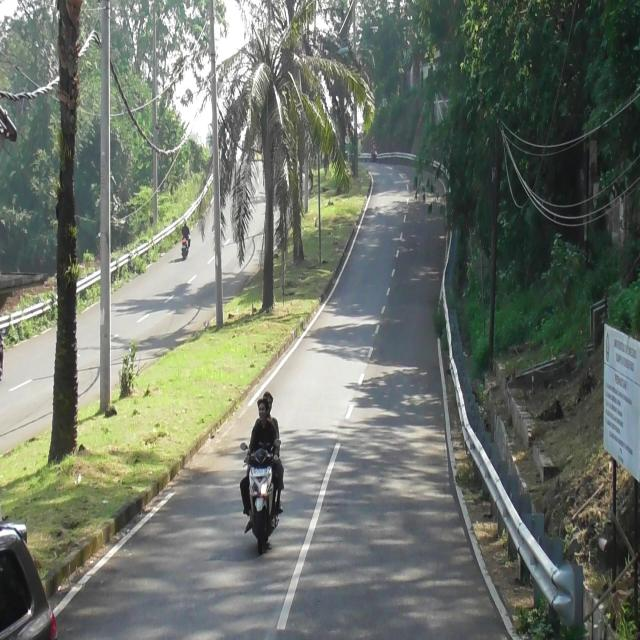motorcycle: (240, 440, 282, 557), (181, 233, 190, 261)
person: (242, 395, 280, 462), (261, 392, 278, 442), (182, 218, 190, 238)
rider_region: (241, 391, 286, 560), (181, 218, 190, 260)
